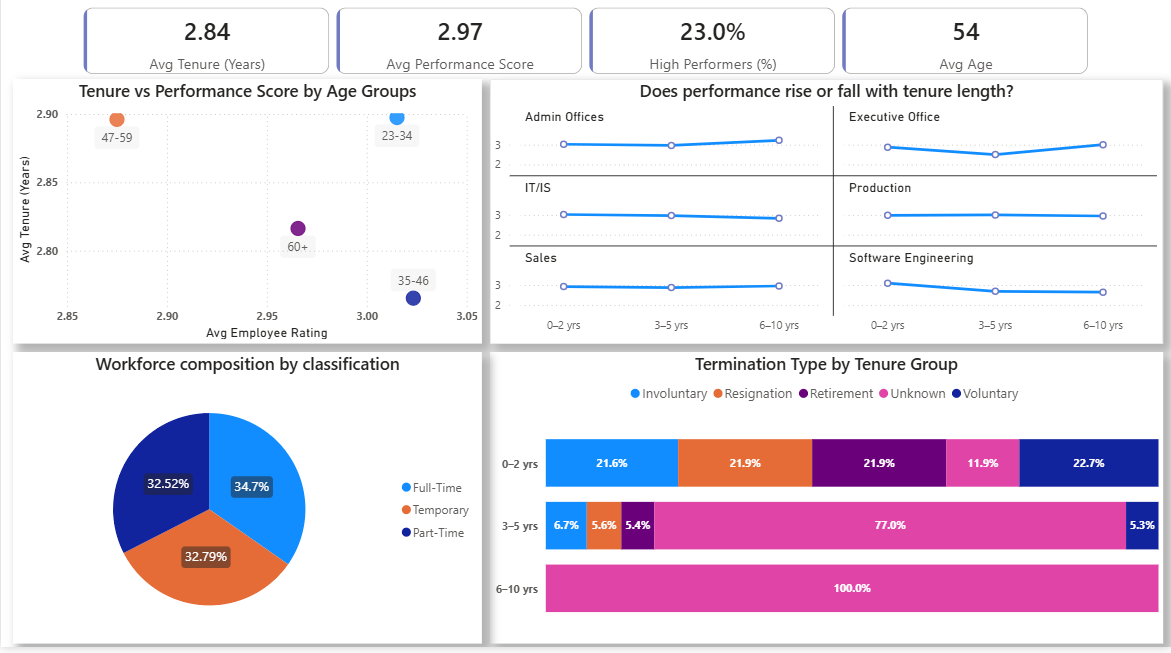

What the dashboard file says about the page in this screenshot:
{"tool":"powerbi","page":{"name":"Tenure & Performance Insights","canvas":[1300,800],"ordinal":1},"visuals":[{"type":"shape","box":[0,0,1300,81.1],"z":0},{"type":"pageNavigator","box":[704.4,6.7,586.7,67.8],"z":1000},{"type":"cardVisual","fields":{"Data":["Key Measures.Avg Tenure (Years)","Key Measures.Avg Performance Score","Key Measures.High Performers (%)","Key Measures.Average Age by Tenure Group"]},"box":[86.7,84.4,1126.7,84.4],"z":2000},{"type":"scatterChart","title":"Tenure vs Performance Score by Age Groups","fields":{"X":["Avg(Employee Data.Employee Rating)"],"Y":["Avg(Employee Data.Tenure (Years))"],"Category":["Employee Data.Age Group"],"Series":["Employee Data.Age Group"]},"box":[13.3,168.9,521.1,294.4],"z":3000},{"type":"lineChart","title":"Does performance rise or fall with tenure length?","fields":{"Category":["Employee Data.Tenure Group"],"Y":["Avg(Employee Data.Employee Rating)"],"Rows":["Employee Data.Department"]},"box":[543.3,168.9,747.8,294.4],"z":7001},{"type":"hundredPercentStackedBarChart","title":"Termination Type by Tenure Group","fields":{"Category":["Employee Data.Tenure Group"],"Y":["Key Measures.Employees"],"Series":["Employee Data.Termination Type"]},"box":[543.3,472.2,747.8,324.4],"z":7003},{"type":"pieChart","title":"Workforce composition by classification","fields":{"Category":["Employee Data.Employment Class"],"Y":["Key Measures.Total Employees"]},"box":[13.3,472.2,521.1,324.4],"z":7004}]}

Visuals, with their boxes on the page's 1300x800 design canvas (x1, y1, x2, y2). These are canvas units, not pixel positions in the 1171x653 screenshot, which may show the page scaled, cropped or inside an application window:
shape: rect(0, 0, 1300, 81)
pageNavigator: rect(704, 7, 1291, 74)
cardVisual - Key Measures.Avg Tenure (Years) x Key Measures.Avg Performance Score: rect(87, 84, 1213, 169)
"Tenure vs Performance Score by Age Groups" scatterChart: rect(13, 169, 534, 463)
"Does performance rise or fall with tenure length?" lineChart: rect(543, 169, 1291, 463)
"Termination Type by Tenure Group" hundredPercentStackedBarChart: rect(543, 472, 1291, 797)
"Workforce composition by classification" pieChart: rect(13, 472, 534, 797)
